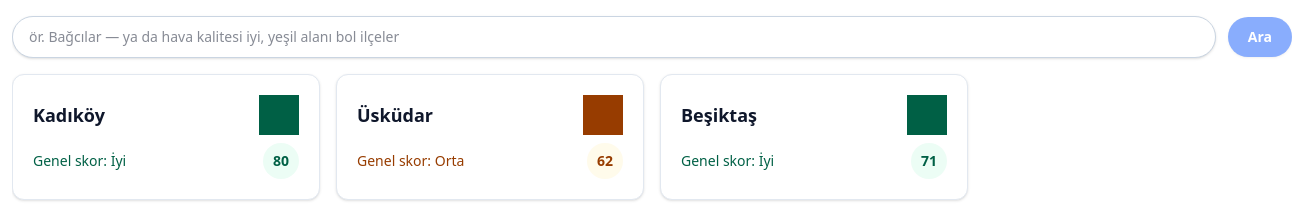
Test: NeighborhoodSearchableList › shows an honest empty state, never all districts, when a search is understood but nothing currently matches
Replace the text in the field named "İlçe ara" with "hava kalitesi mükemmel ilçeler" at (614, 37), box [12,16,1216,58]
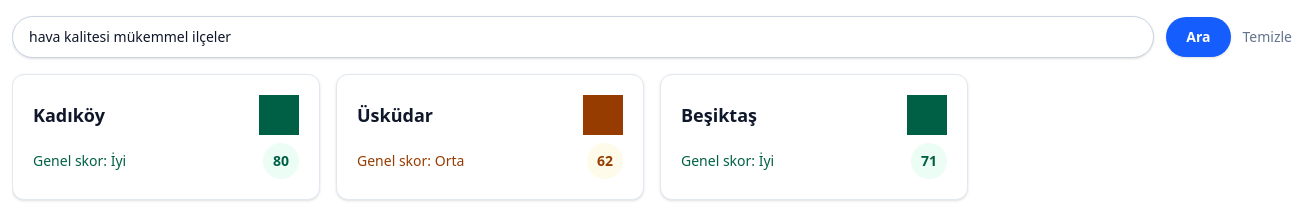
Click the button "Ara" at (1198, 37), box [1166,17,1230,57]
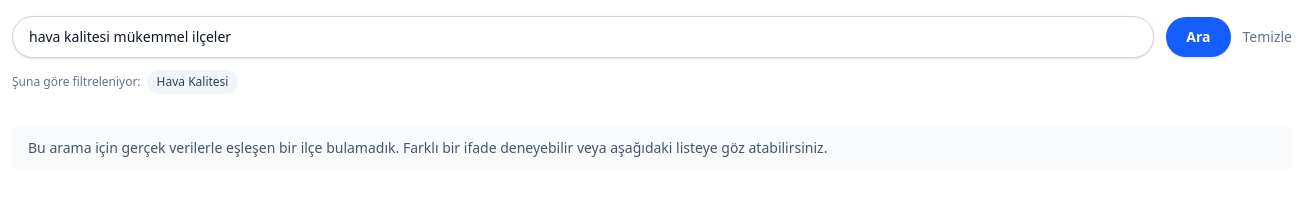
Check: the text "Bu arama için gerçek verilerle eşleşen bir ilçe bulamadık. Farklı bir ifade deneyebilir veya aşağıdaki listeye göz atabi" is shown, box [28,138,827,157]
Check: the list is gone
